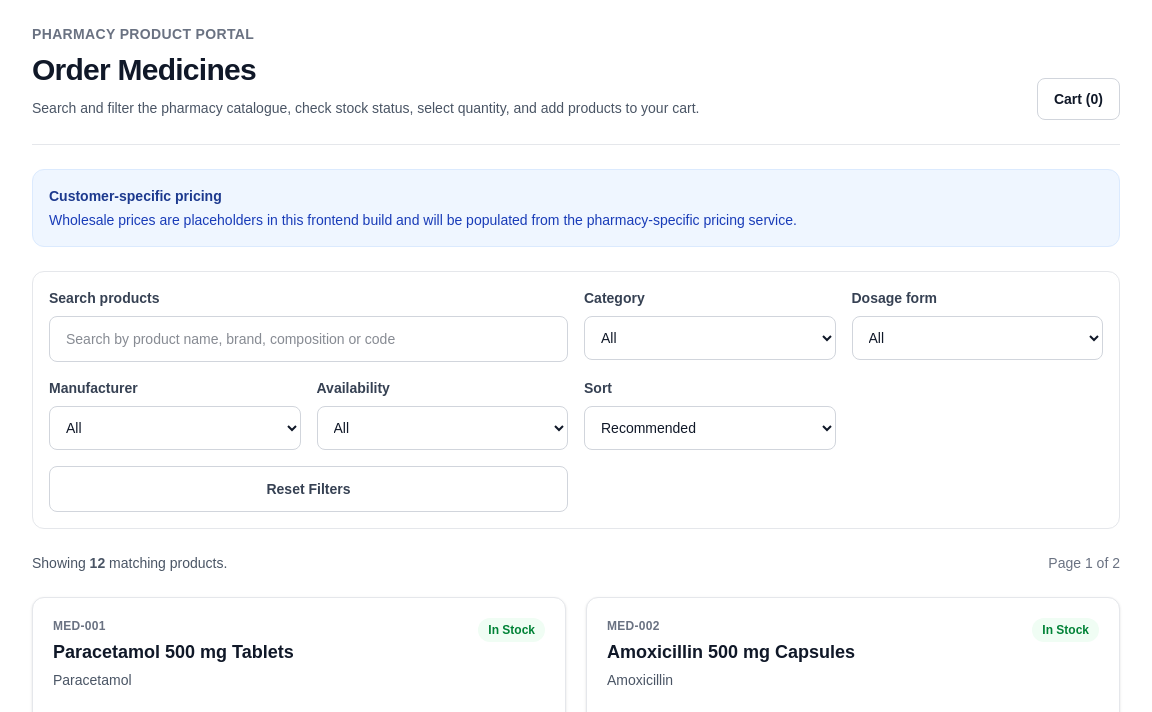
Test: Pharmacy Product Search Portal Integration › searches for a product and adds the selected quantity to cart
This screenshot has width=1152, height=712.
Step 1. Type "Amoxicillin" into the search field named "Search pharmacy products" → (308, 339), box [49, 316, 568, 362]
(page scrolled)
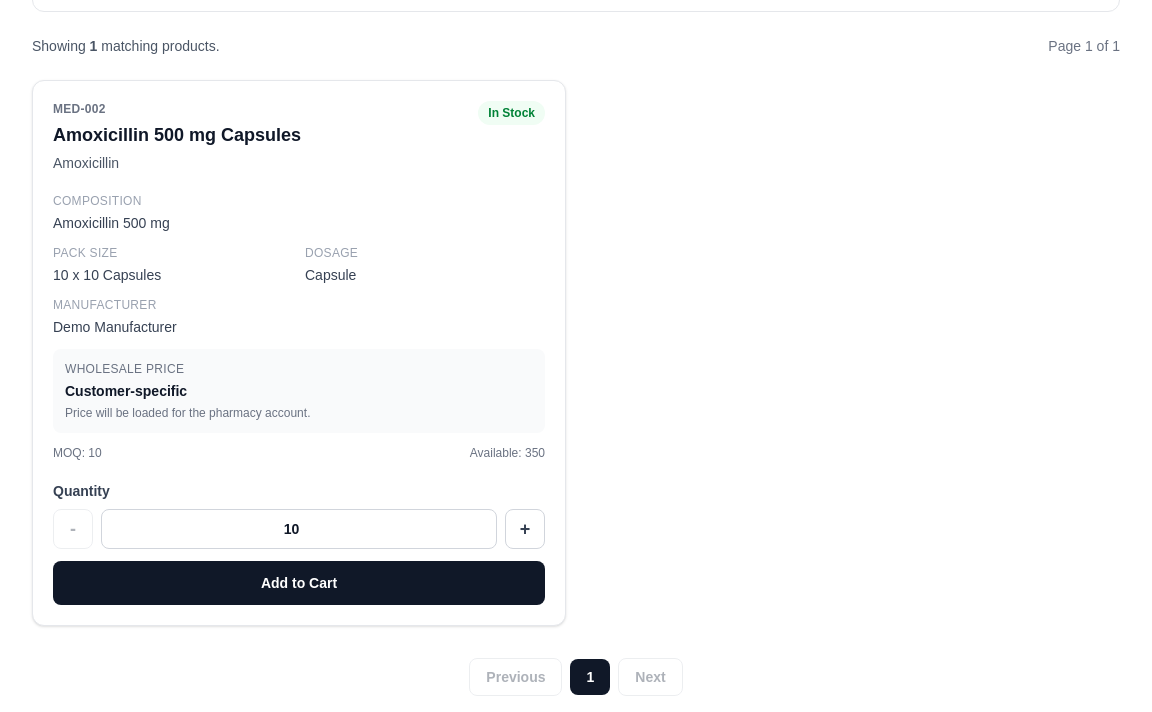
Expected: the heading "Amoxicillin 500 mg Capsules" is shown, [53, 121, 301, 149]
Expected: the text "In Stock" is shown 2 times
Step 2. Replace the text in the number field named "Quantity for Amoxicillin 500 mg Capsules" with "12" → (299, 529), box [101, 509, 497, 549]
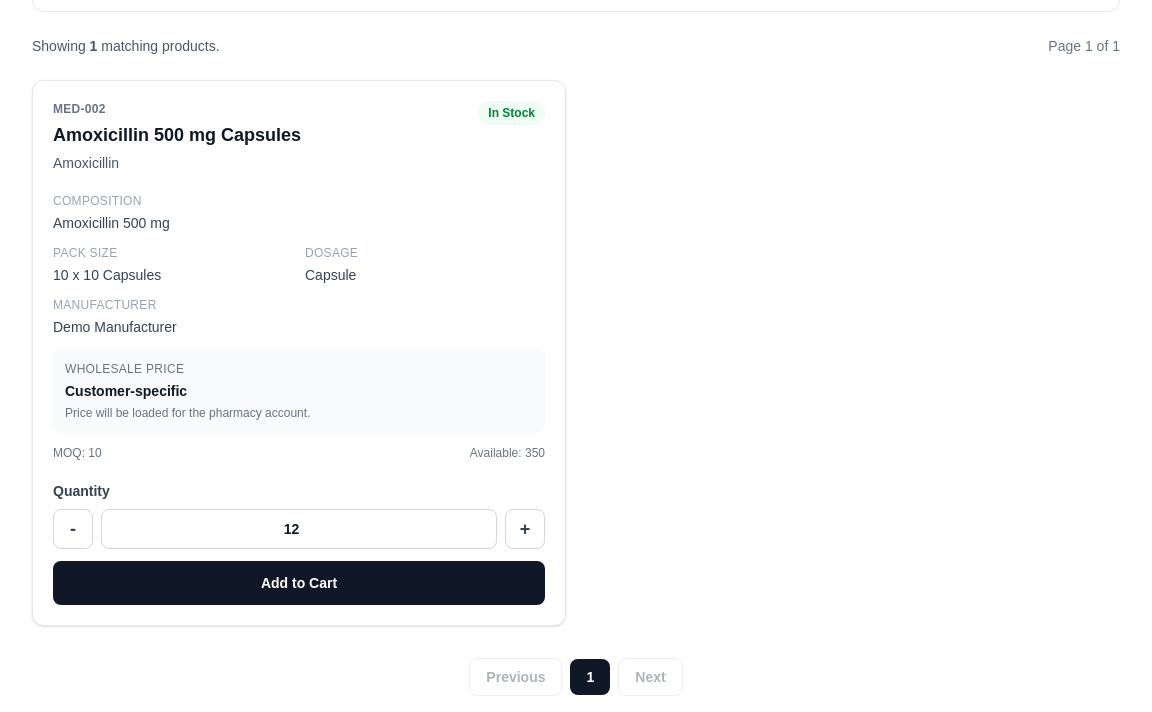
Step 3. Click the button with aria-label "Add Amoxicillin 500 mg Capsules to cart" → (299, 583), box [53, 561, 545, 605]
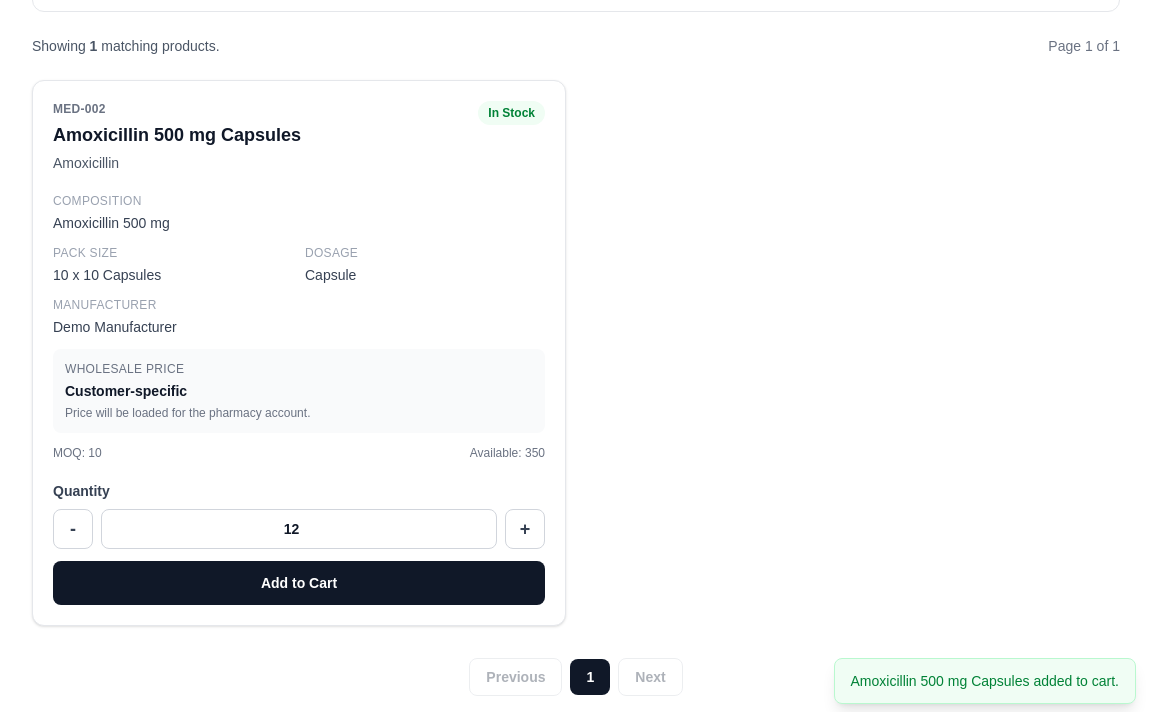
Expected: the message reads "Amoxicillin 500 mg Capsules added to cart.", [850, 673, 1119, 689]
